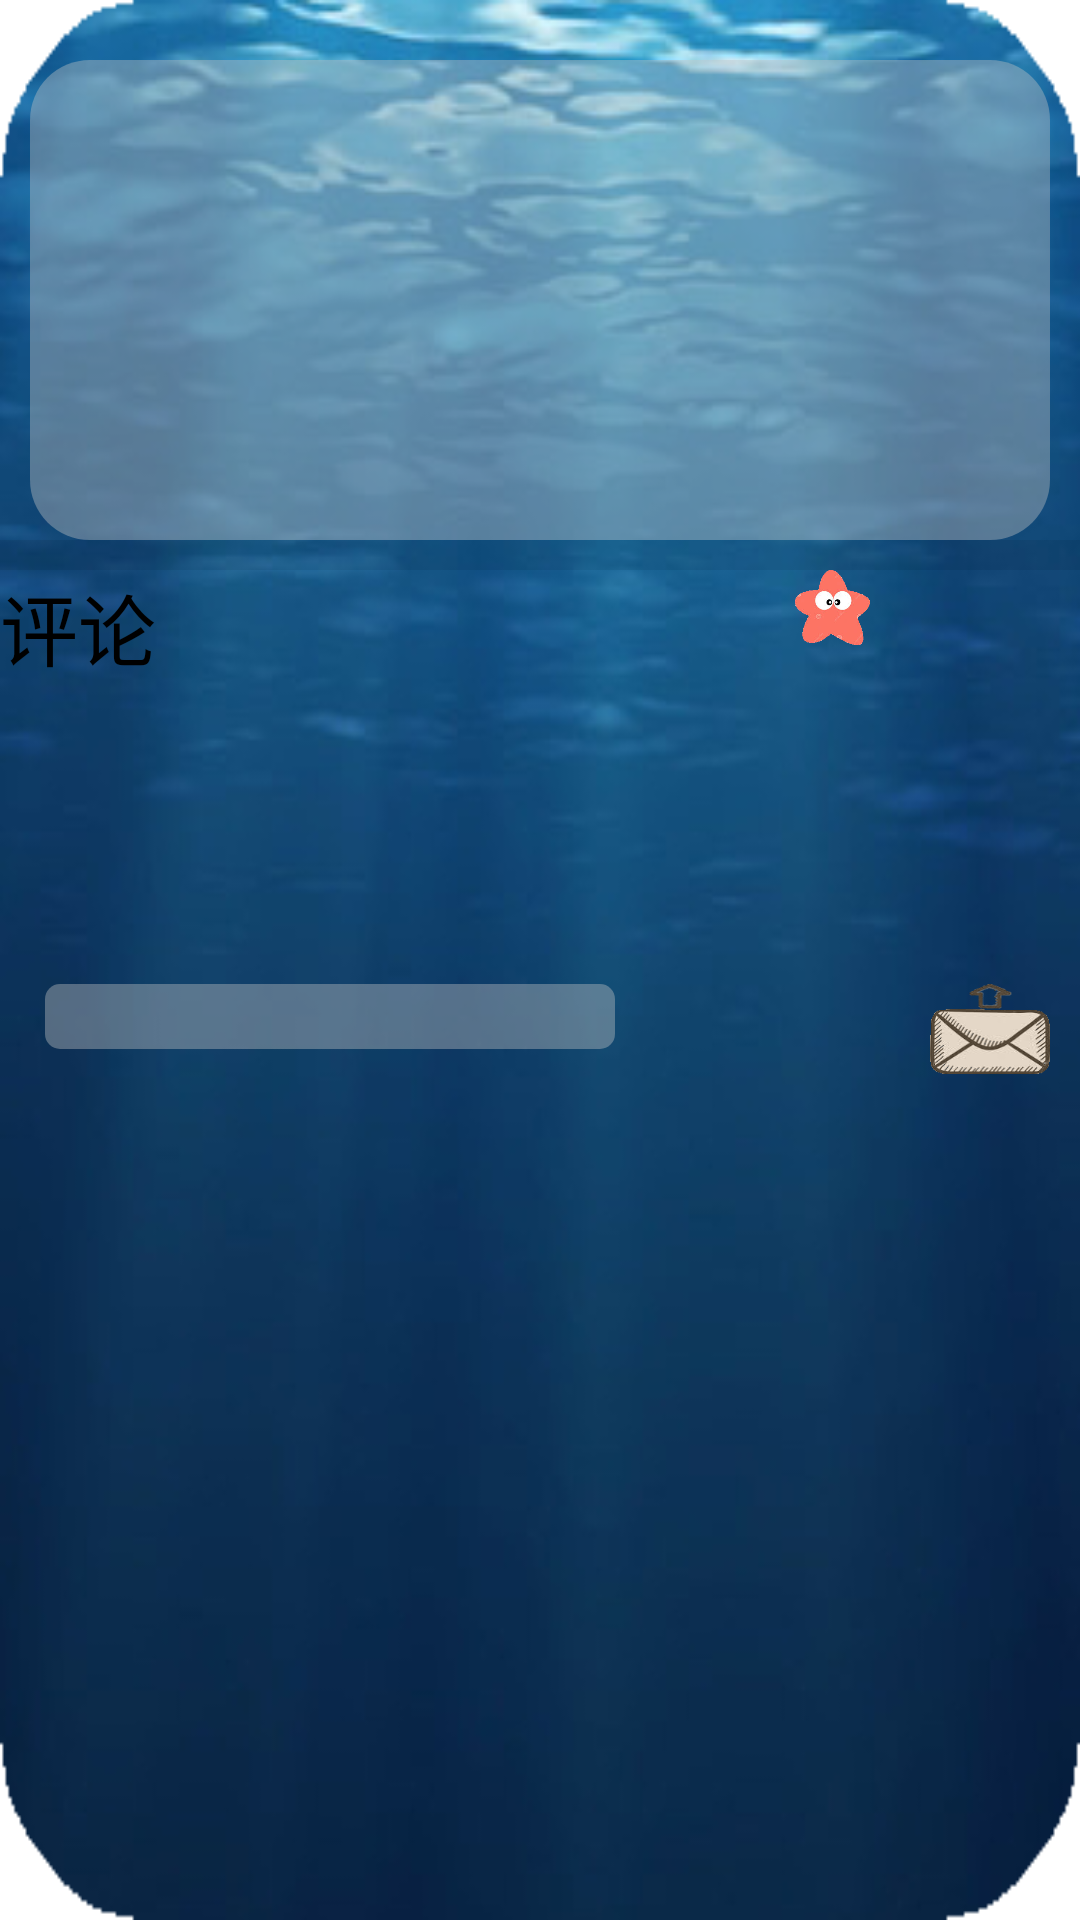

Where to tap for icons on this 1080 x 1920 app screen, as (x,y):
send: (990,1029)
star: (832,607)
